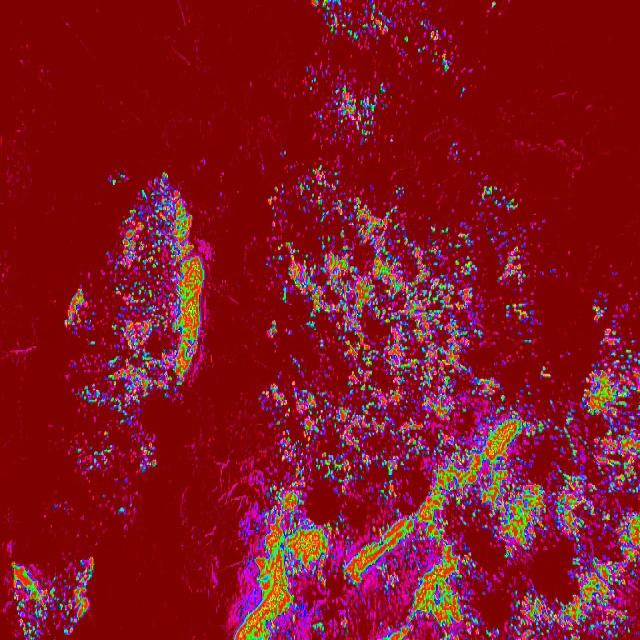fire: (228, 256, 640, 640), (263, 158, 540, 257), (105, 253, 208, 397), (74, 385, 158, 529), (300, 63, 398, 158), (313, 0, 458, 64), (0, 544, 95, 640), (118, 172, 194, 254), (60, 276, 96, 336)
